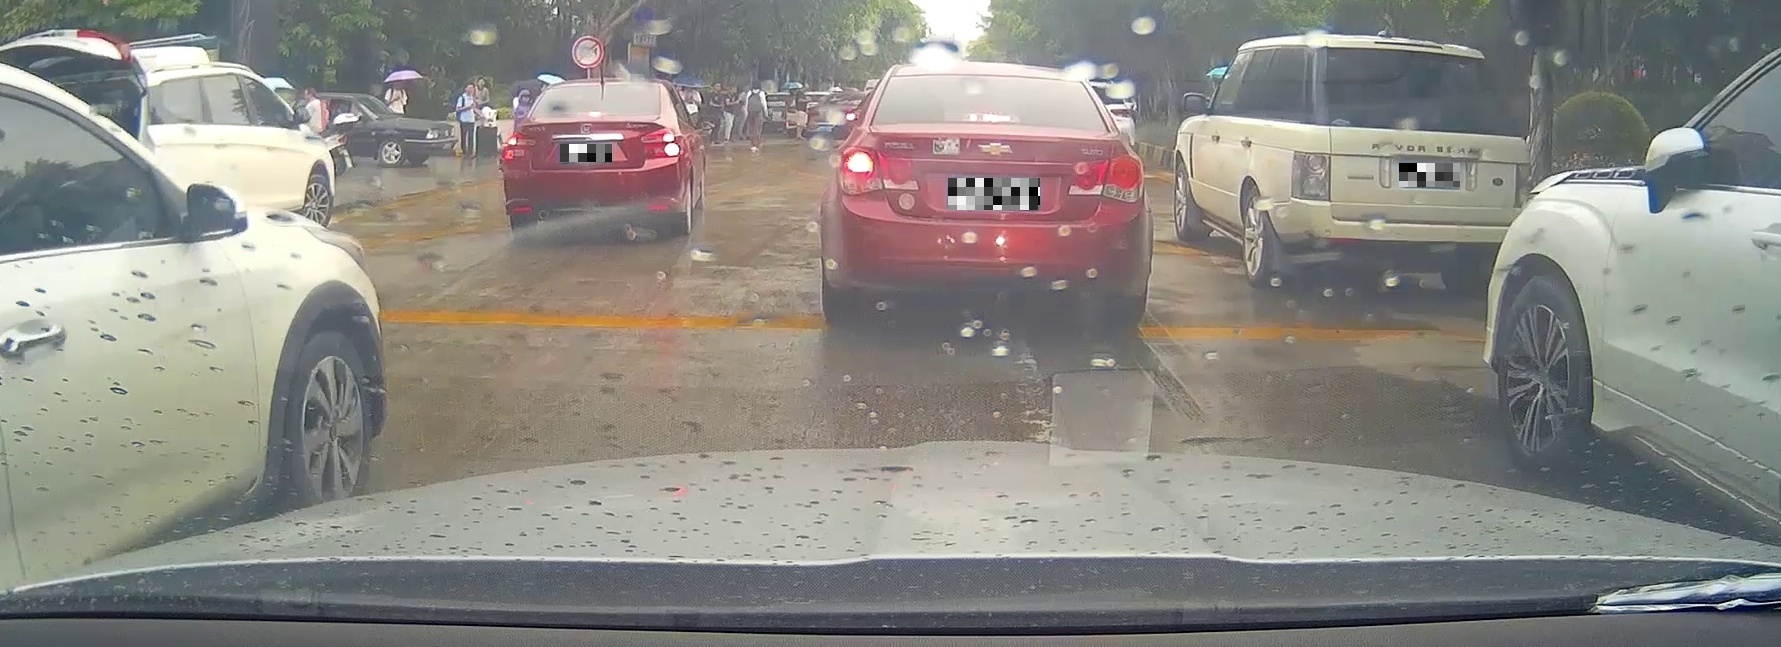L_light: (835, 145, 919, 196), (1291, 150, 1331, 202), (504, 133, 534, 160)
R_light: (1068, 156, 1145, 203), (641, 128, 680, 156), (1513, 162, 1532, 208)
T_light: (1373, 40, 1444, 52), (965, 114, 1014, 123), (577, 111, 607, 117)
day-brake: (501, 79, 684, 240)
day-left: (821, 61, 1154, 325)
day-no: (1290, 33, 1533, 295)
plate_1: (560, 144, 612, 162)
plate_2: (948, 178, 1040, 210)
plate_3: (1399, 163, 1460, 187)
